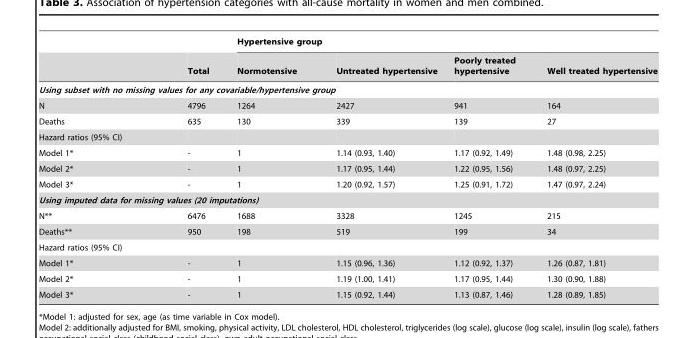table: (37, 36, 657, 298)
table column: (315, 36, 445, 298), (530, 36, 657, 298), (37, 36, 154, 298), (222, 36, 315, 298), (445, 36, 530, 298), (154, 36, 222, 298)
table column header: (37, 36, 657, 80)
table projected row header: (37, 80, 657, 97), (37, 239, 657, 255), (37, 129, 657, 144), (37, 192, 657, 207)
table row: (37, 50, 657, 80), (37, 80, 657, 97), (37, 97, 657, 113), (37, 113, 657, 129), (37, 144, 657, 160), (37, 160, 657, 176), (37, 176, 657, 192), (37, 207, 657, 223), (37, 223, 657, 239), (37, 239, 657, 255), (37, 270, 657, 286), (37, 129, 657, 144), (37, 192, 657, 207), (37, 255, 657, 270), (37, 36, 657, 50), (37, 286, 657, 298)
table spanning cell: (222, 36, 657, 50), (154, 36, 222, 80)
